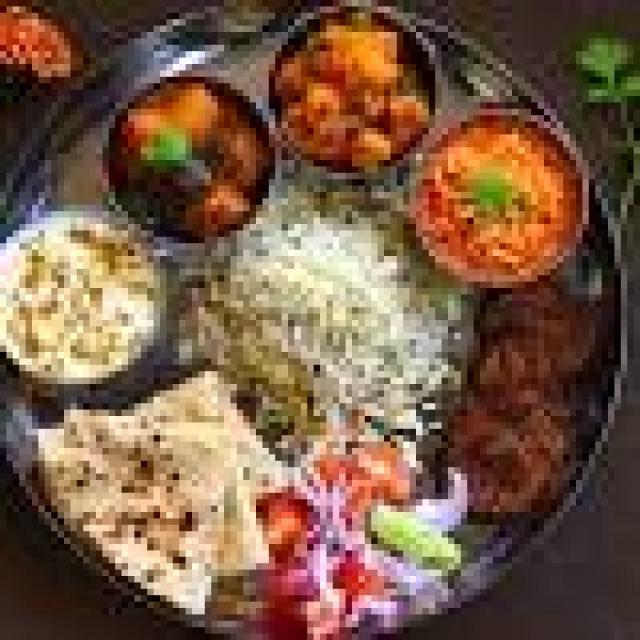dal: (97, 73, 269, 229)
papad: (203, 191, 458, 430)
pickle: (0, 0, 100, 103)
rice: (1, 213, 173, 404)
roti: (34, 386, 257, 599)
sweet: (270, 6, 441, 183)
veg-fry: (395, 108, 584, 297), (258, 1, 440, 186)
